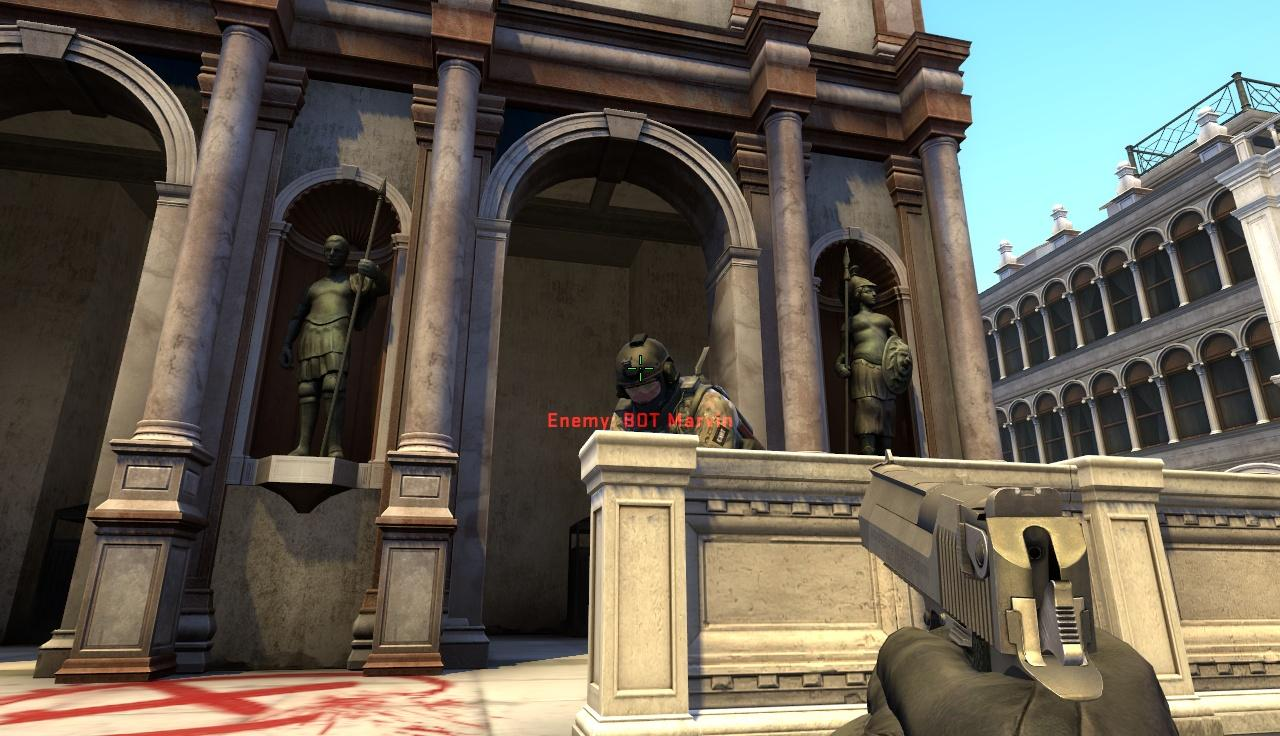ct: (608, 334, 764, 452)
cthead: (615, 335, 674, 410)
pistol: (859, 461, 1138, 736)
